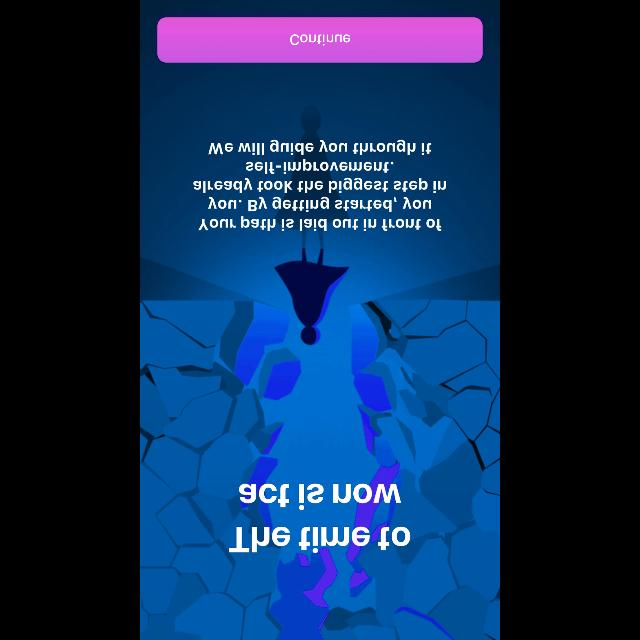backgroundimage: (140, 1, 500, 640)
text: (194, 140, 446, 230), (229, 483, 411, 553)
textbutton: (158, 18, 482, 62)
